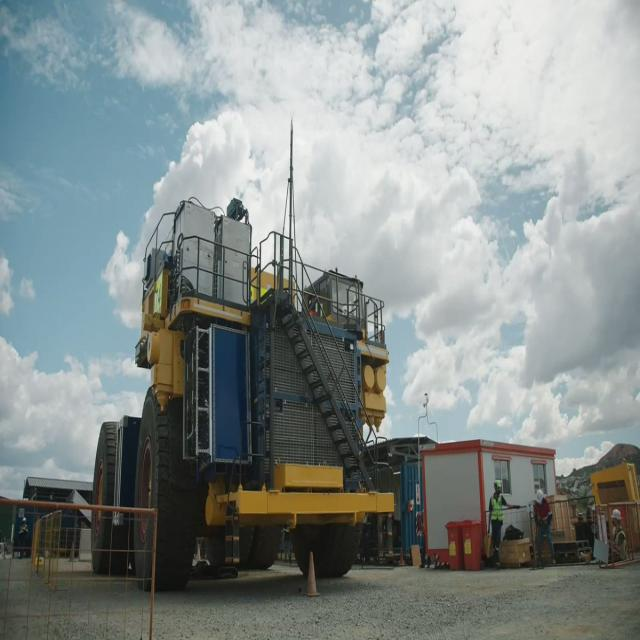dump_truck: (63, 170, 382, 589)
